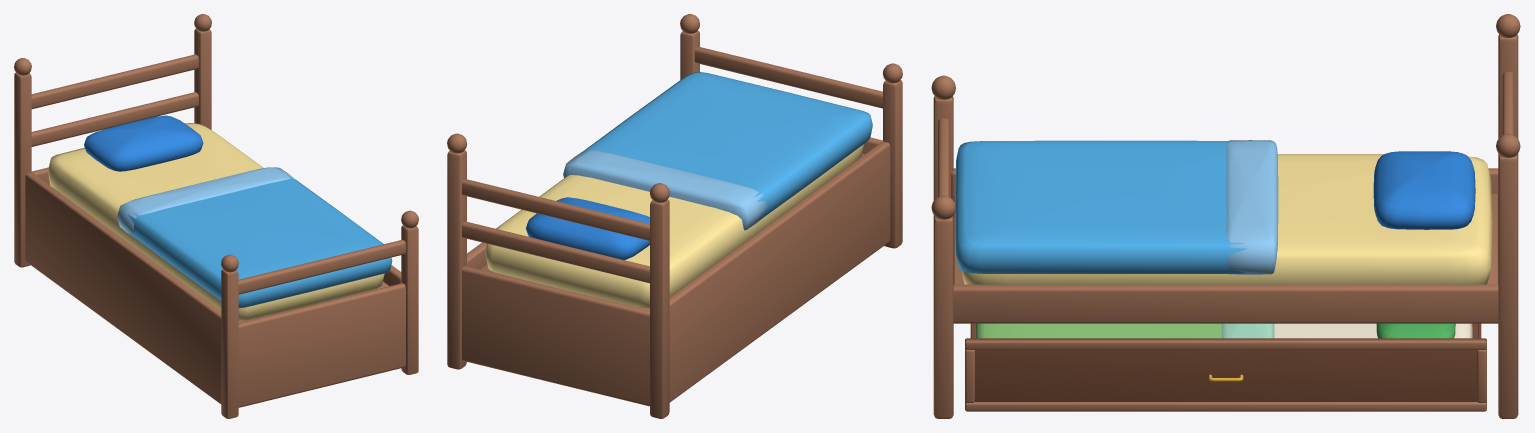
Rendered from cama_solteiro_bicama_marrom.glb.
3 renders of one model, left to right at view 1: azimuth 30°, elevation 25°; view 2: azimuth 150°, elevation 25°; view 3: azimuth 270°, elevation 25°, orthographic. The views are drawn at different scales.
Visible parts, largest first — view 1: cama_solteiro_bicama_marrom; view 2: cama_solteiro_bicama_marrom; view 3: cama_solteiro_bicama_marrom, bicama.
Part boxes in pixels (<box>): cama_solteiro_bicama_marrom: <box>14,14,418,418</box>; cama_solteiro_bicama_marrom: <box>447,14,902,418</box>; cama_solteiro_bicama_marrom: <box>931,14,1520,418</box>; bicama: <box>965,323,1486,411</box>.
Size of the model in its own units: 1.11 by 1.09 by 2.08.
1 material, 1 textured.
